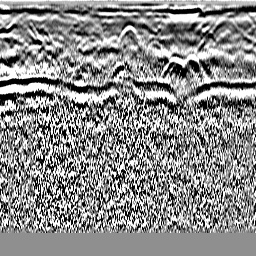cavity: (117, 24, 138, 43)
